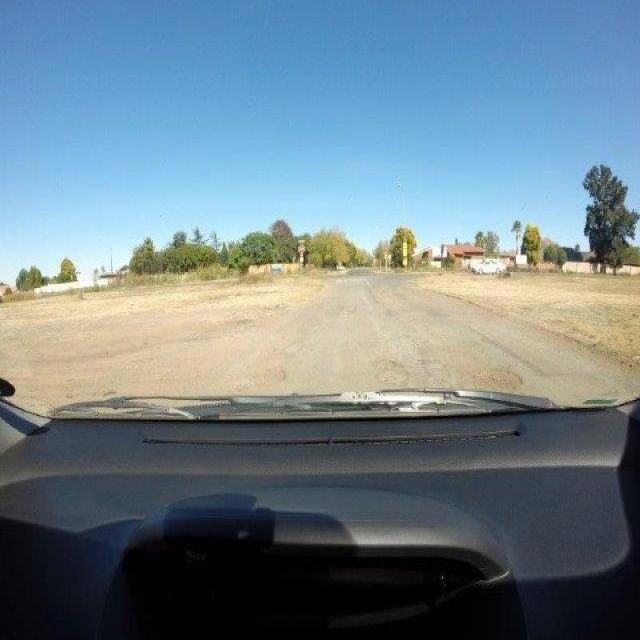lubang: (453, 358, 527, 394), (367, 353, 423, 398), (243, 359, 295, 384)
